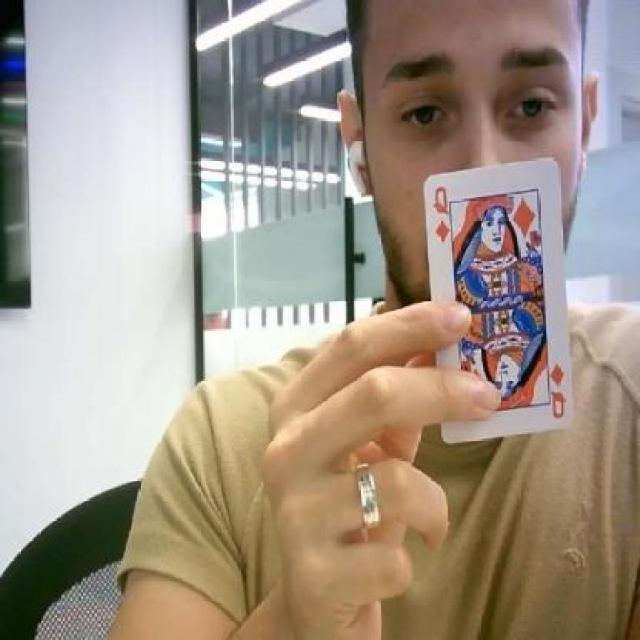QD: (548, 358, 566, 422), (432, 182, 450, 245)
